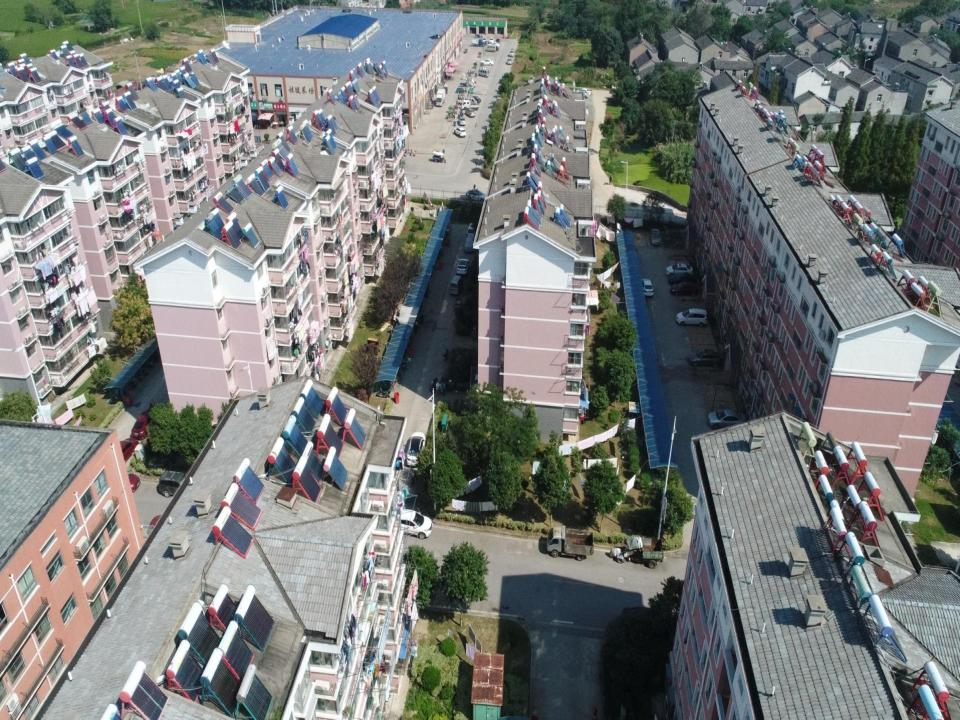car: (394, 508, 434, 541), (131, 403, 154, 439), (707, 408, 744, 430), (686, 347, 723, 369), (405, 430, 426, 467), (675, 306, 709, 328), (670, 279, 700, 297), (665, 262, 693, 278), (667, 273, 695, 285), (466, 188, 488, 202), (641, 276, 654, 298), (456, 257, 470, 275), (650, 227, 662, 247), (575, 88, 591, 100), (453, 126, 467, 138), (466, 221, 476, 237), (480, 57, 494, 67), (464, 107, 476, 118), (457, 112, 466, 126), (509, 47, 515, 57), (489, 36, 494, 46), (507, 57, 512, 65)
truck: (546, 524, 594, 561), (461, 99, 479, 111), (435, 88, 446, 107)
van: (156, 468, 187, 498), (449, 274, 462, 296), (478, 67, 490, 78), (485, 43, 496, 54)
